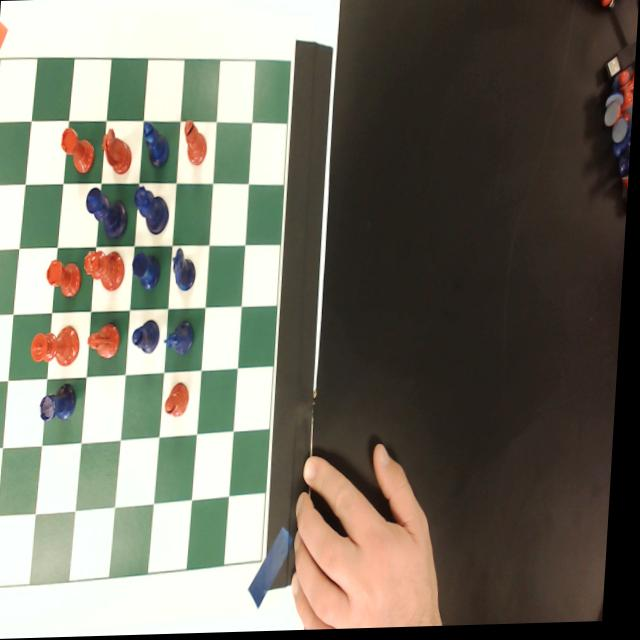B: (142, 118, 172, 173), (133, 319, 164, 360)
K: (84, 186, 131, 241)
N: (174, 246, 201, 296), (166, 319, 198, 360)
Q: (133, 185, 172, 236)
R: (42, 382, 81, 427), (133, 252, 165, 293)
b: (182, 118, 211, 168), (168, 381, 195, 421)
k: (32, 324, 85, 368)
n: (100, 126, 134, 177), (89, 319, 125, 360)
q: (85, 249, 128, 292)
r: (60, 124, 98, 176), (47, 257, 85, 298)
